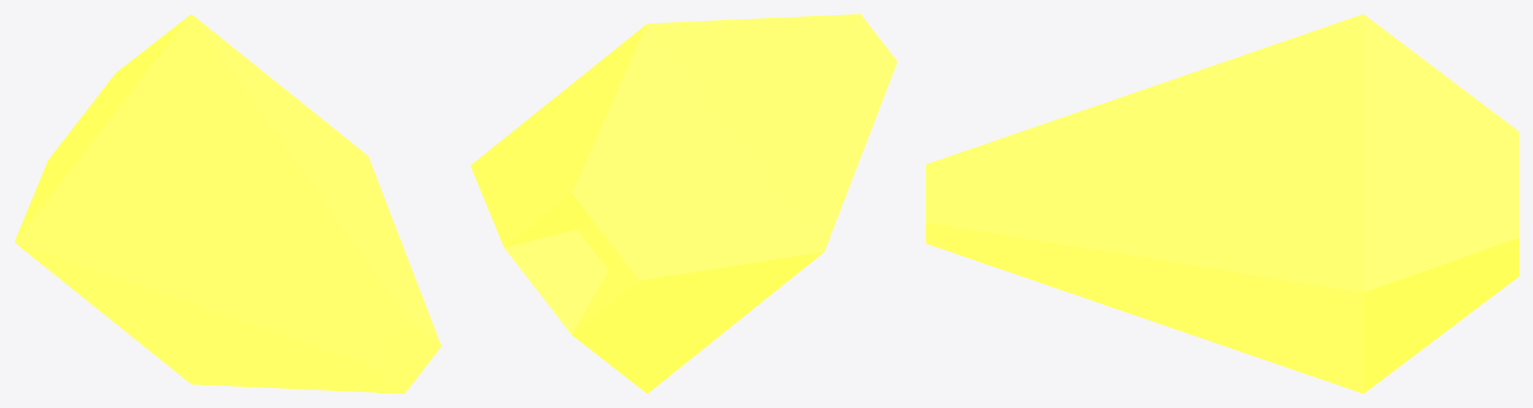
Rendered from AlienProjectile.fbx.
3 views of the same model, side by side, from view 1: azimuth 30°, elevation 25°; view 2: azimuth 150°, elevation 25°; view 3: azimuth 270°, elevation 25° (orthographic). The views are drawn at different scales.
Visible parts, largest first — view 1: Projectile; view 2: Projectile; view 3: Projectile.
Boxes of the visible parts, left/top/right/bottom form: Projectile: left=14, top=14, right=441, bottom=393; Projectile: left=470, top=14, right=897, bottom=393; Projectile: left=926, top=14, right=1518, bottom=393.
Size of the model in its own units: 149 by 149 by 210.
